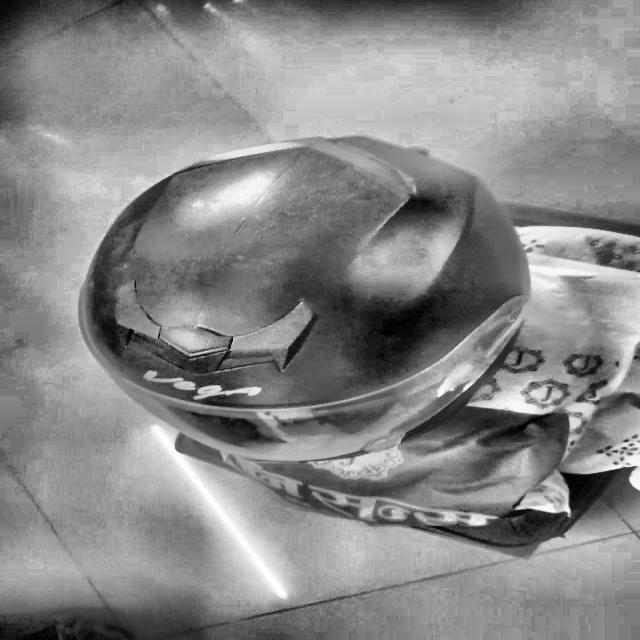Helmet: (83, 126, 534, 464)
